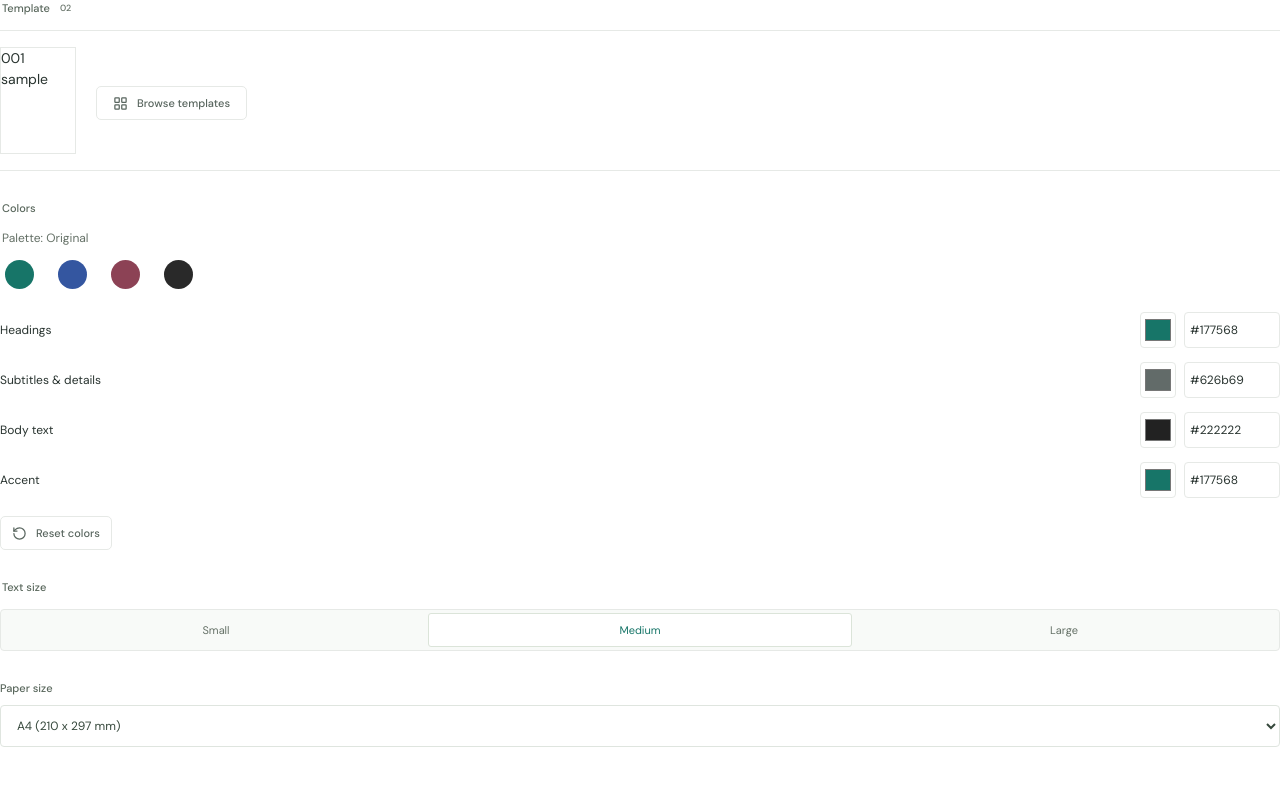
Test: shows all templates without filters or counts and resets tentative selection on reopen
This screenshot has width=1280, height=800.
Click the button "Browse templates" at (172, 103), box x1=96 y1=86 x2=247 y2=120
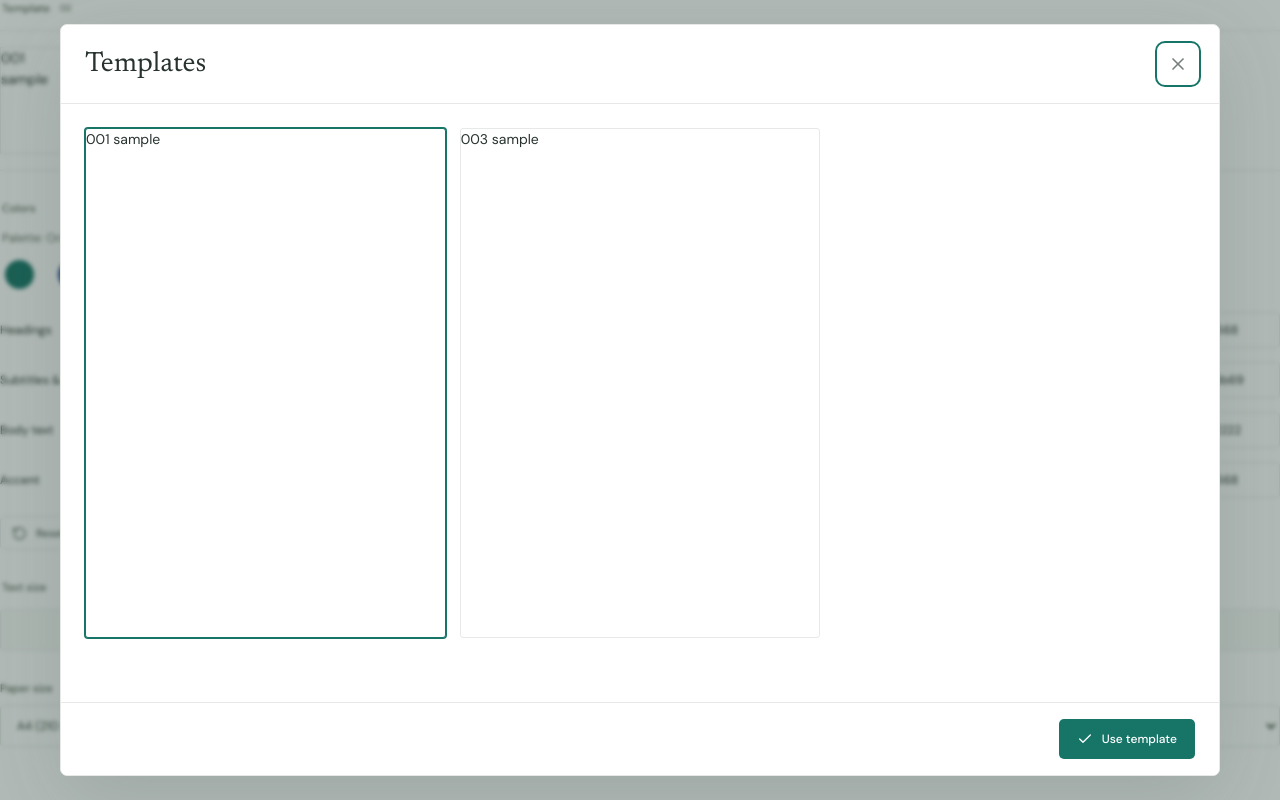
Check: the heading "Templates" is shown, box x1=85 y1=43 x2=206 y2=85
Check: the number of buttons named "Inspect " is 2
Click the button with aria-label "Inspect 003" at (640, 383), box x1=460 y1=128 x2=820 y2=638
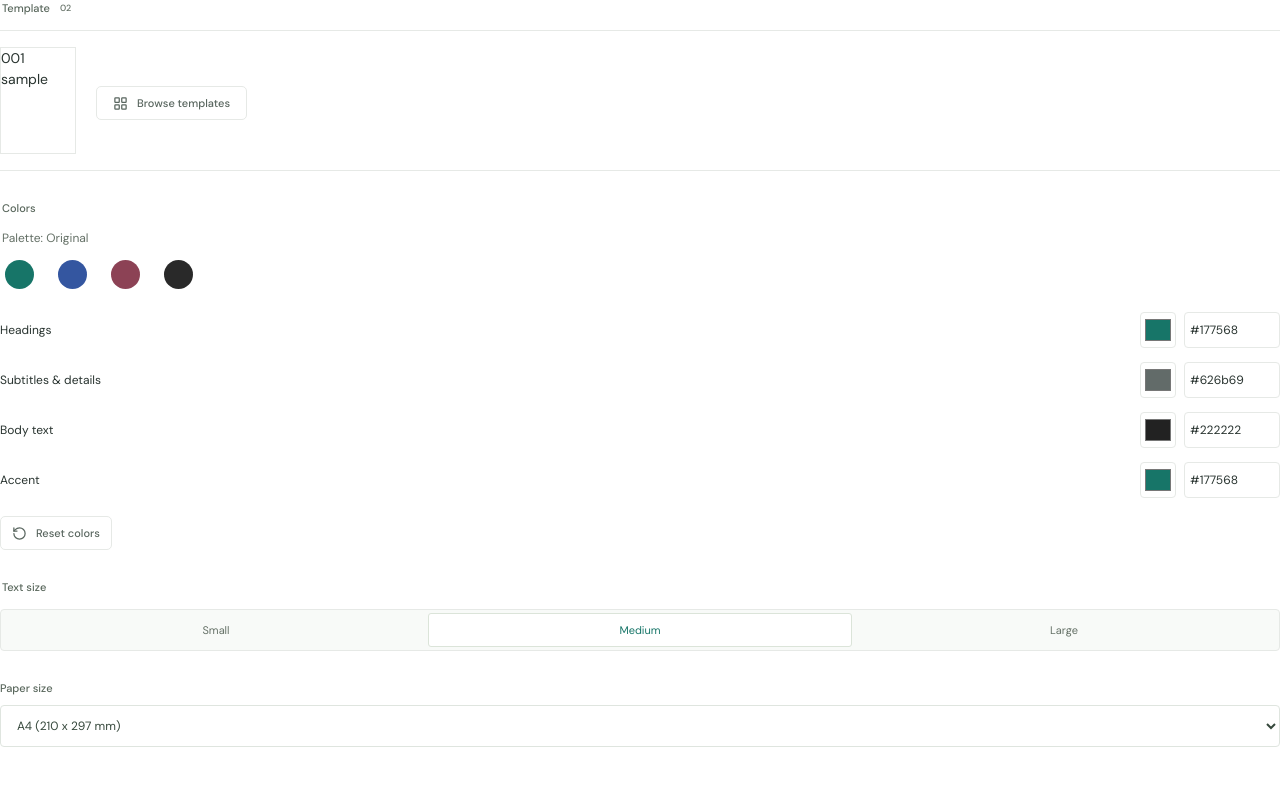
Check: the dialog is gone
Click the button "Browse templates" at (172, 103), box x1=96 y1=86 x2=247 y2=120
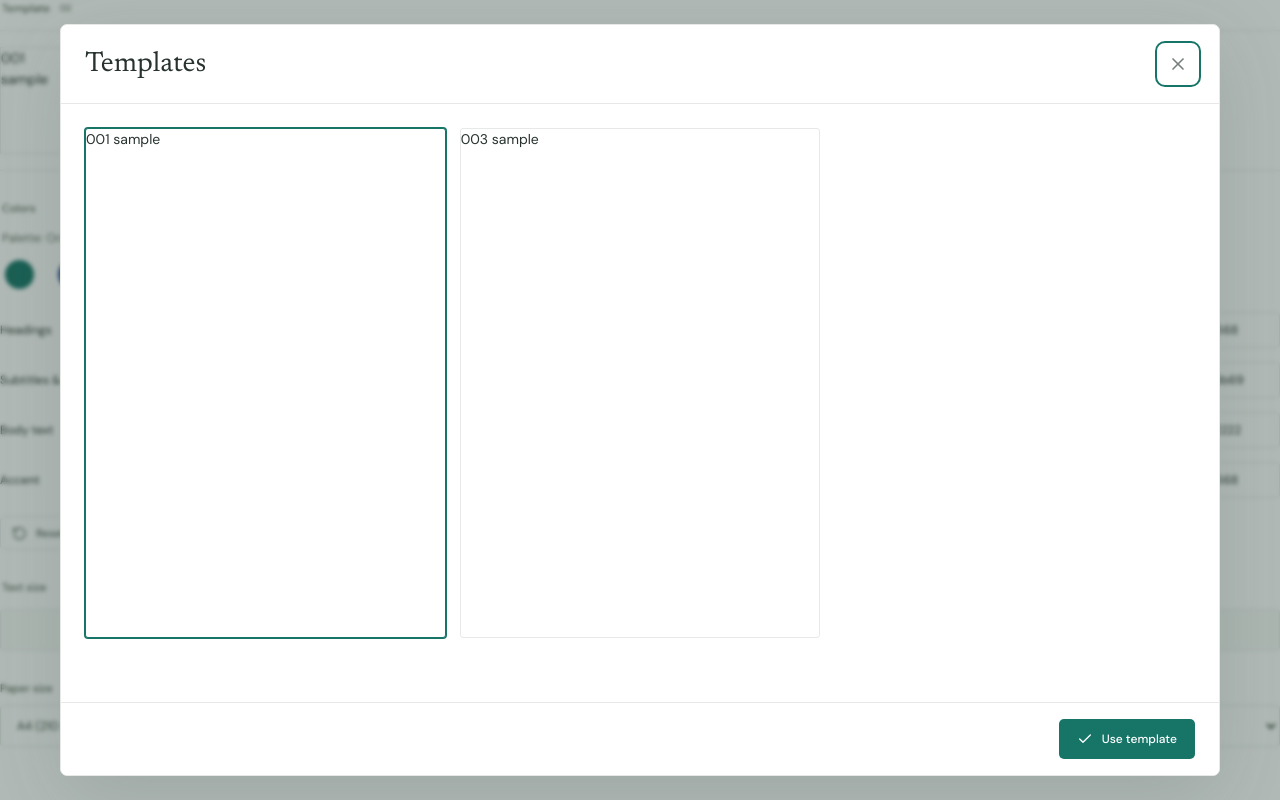
Click the button with aria-label "Inspect 003" at (640, 383), box x1=460 y1=128 x2=820 y2=638
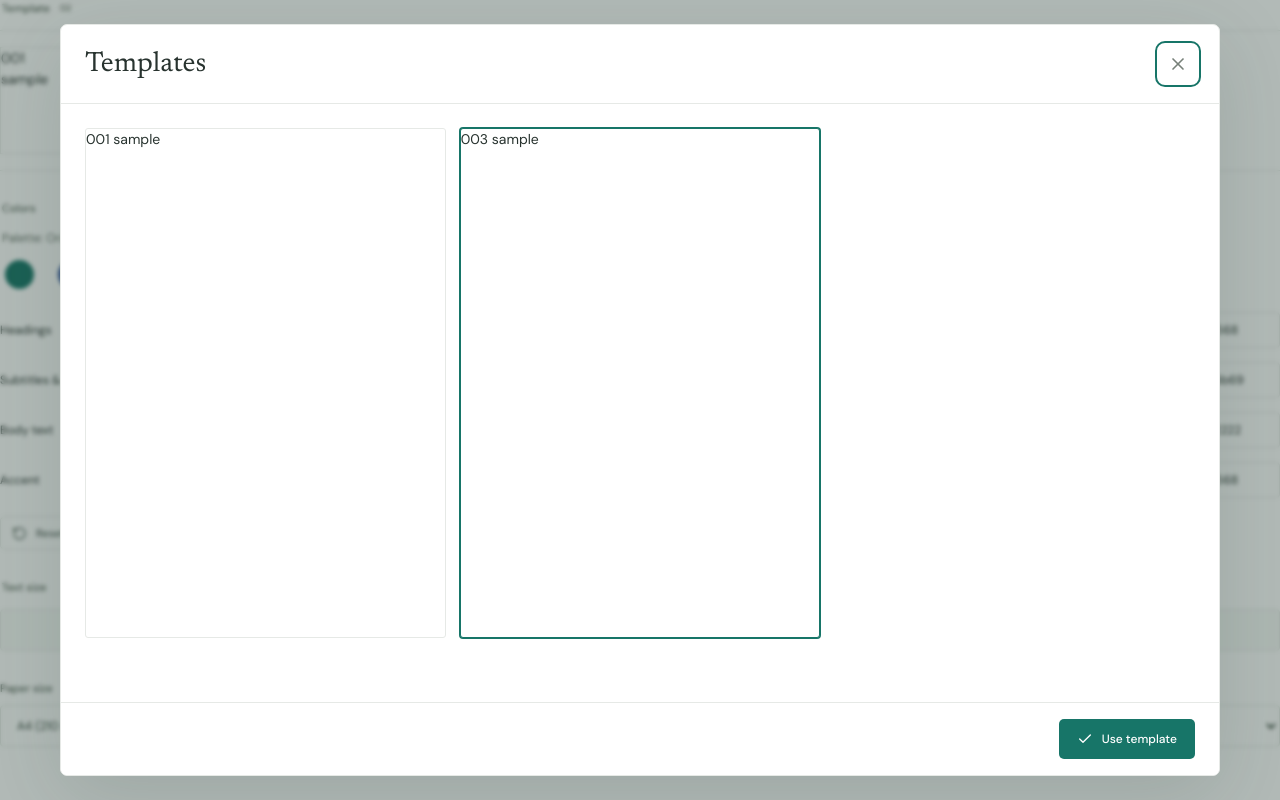
Click the button "Use template" at (1127, 739), box x1=1059 y1=719 x2=1195 y2=759
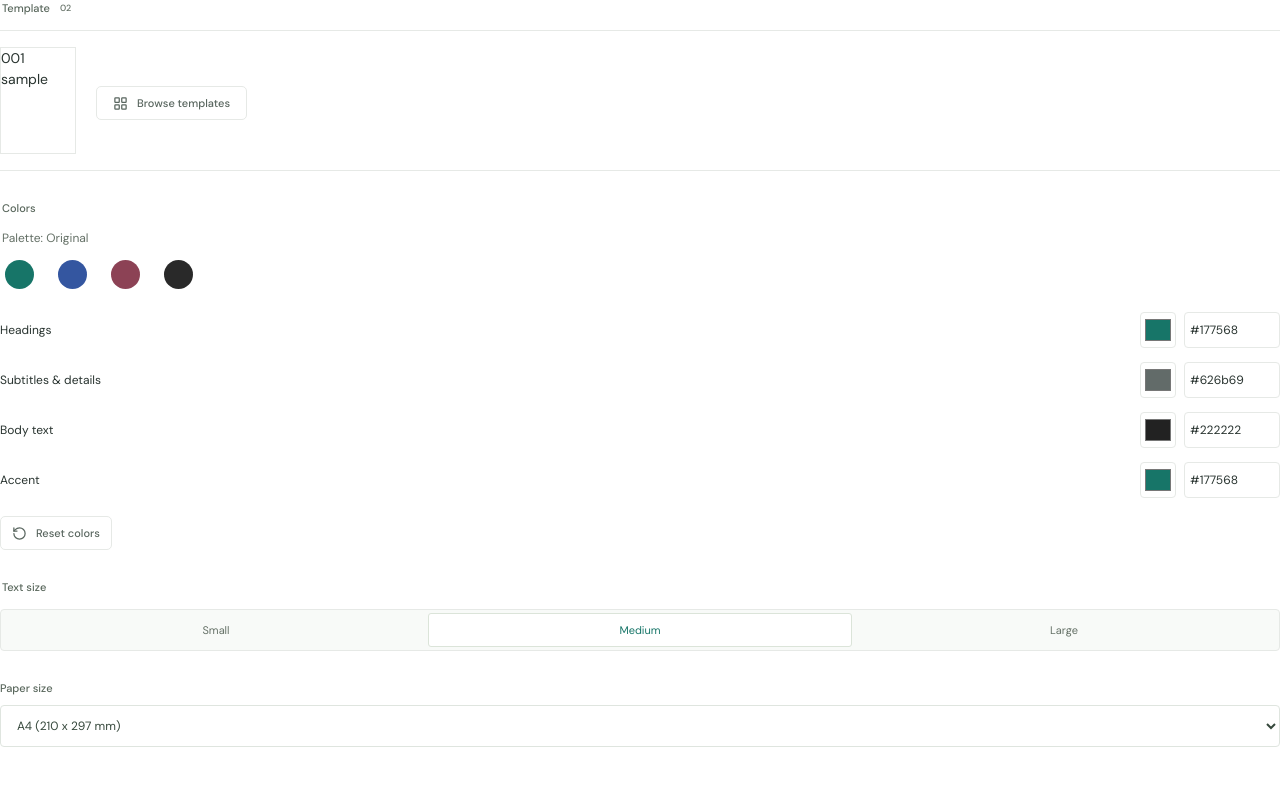
Check: the dialog is gone
